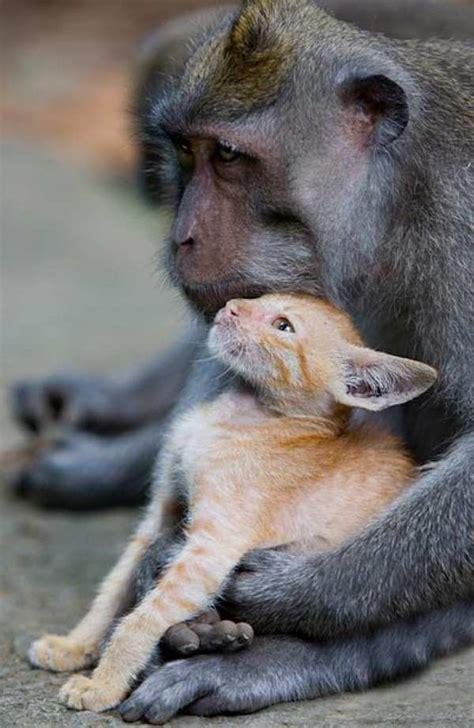cat: (29, 292, 435, 711)
monkey: (122, 1, 473, 722)
